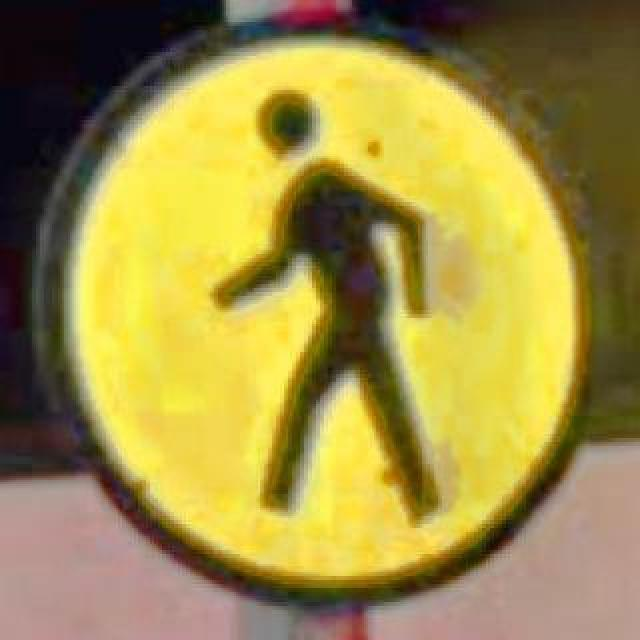pedestrian crossing: (32, 6, 608, 614)
